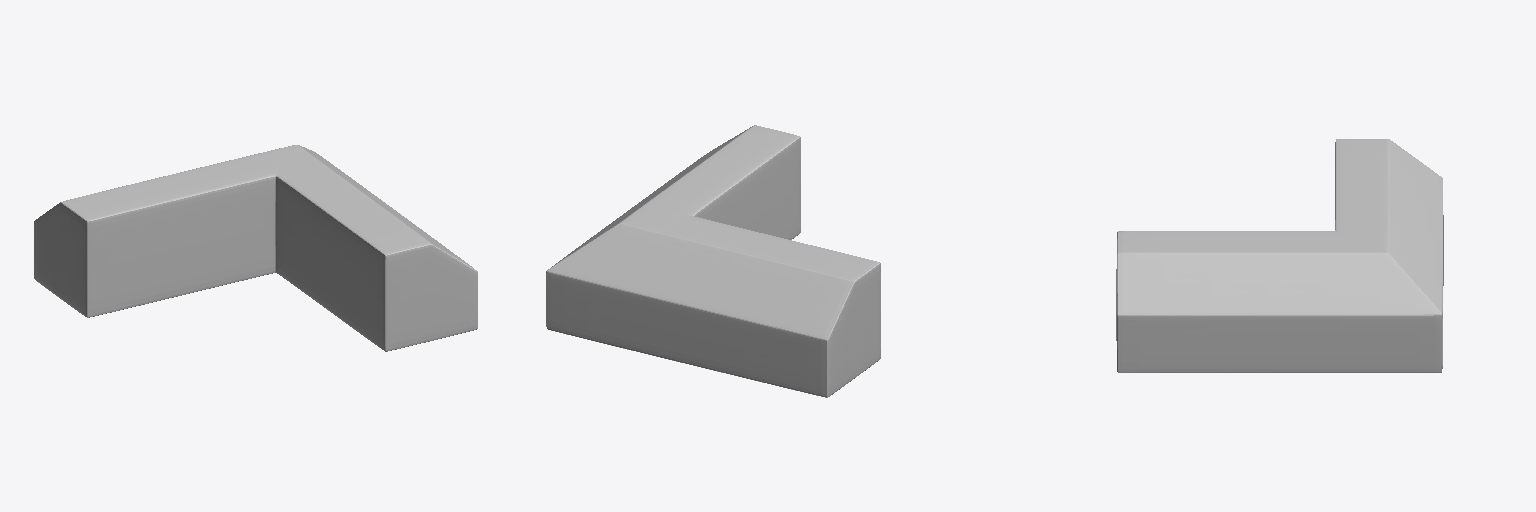
Rendered from InsideCorner_HP.obj.
3 views of the same model, side by side, from view 1: azimuth 30°, elevation 25°; view 2: azimuth 150°, elevation 25°; view 3: azimuth 270°, elevation 25° (orthographic).
Visible parts, largest first — view 1: InsideCorner; view 2: InsideCorner; view 3: InsideCorner.
Part boxes in pixels (x1,y1,x2,y2): InsideCorner: (34,145,477,351); InsideCorner: (546,125,880,397); InsideCorner: (1116,139,1443,372).
Bounding box in the file's own units: 3 × 0.9998 × 3.